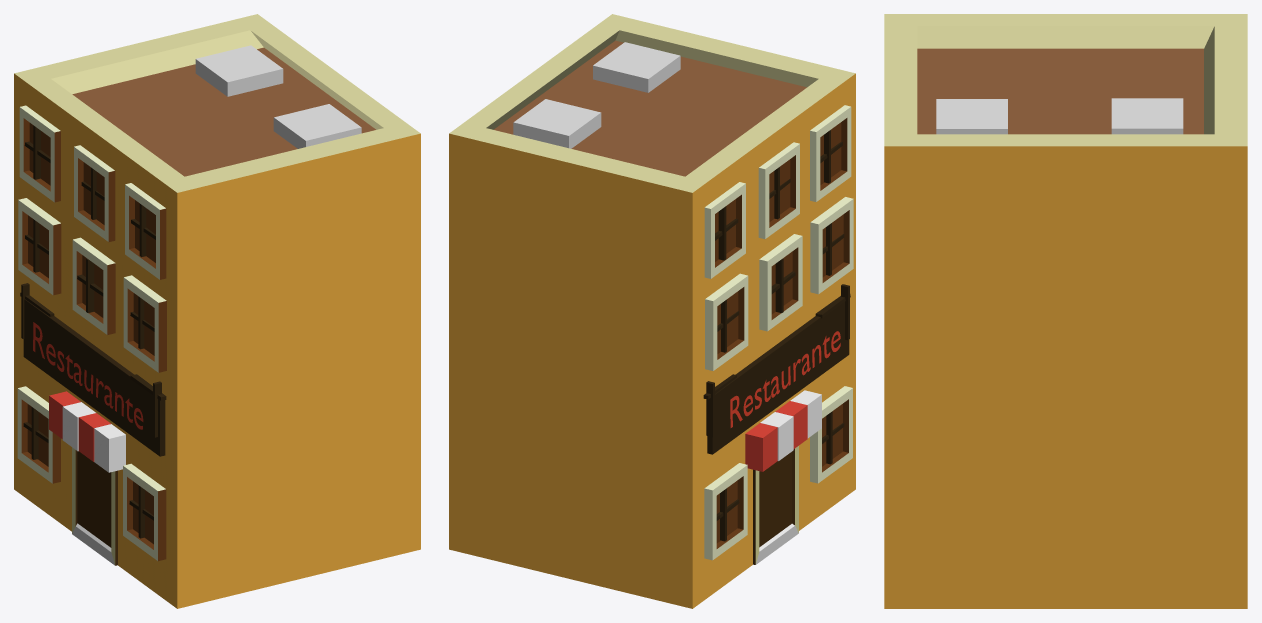
File: restoran.fbx
The picture shows the model from 3 angles, left to right: view 1: azimuth 30°, elevation 25°; view 2: azimuth 150°, elevation 25°; view 3: azimuth 270°, elevation 25°; orthographic projection. The views are drawn at different scales.
Visible parts, largest first — view 1: Cube, Cubo.031, Cubo.026, Cubo, Cubo.007, Cubo.005, Cubo.009, Cubo.006, Cubo.003, Cubo.004, Cubo.002, Cubo.008 (+6 smaller); view 2: Cube, Cubo.031, Cubo.026, Cubo.007, Cubo.005, Cubo.001, Cubo, Cubo.008, Cubo.006, Cubo.003, Cubo.004, Cubo.002 (+6 smaller); view 3: Cube, Cubo, Cubo.001.
Part boxes in pixels (<box>): Cube: <box>14,14,420,608</box>; Cubo.031: <box>23,299,165,456</box>; Cubo.026: <box>72,447,117,565</box>; Cubo: <box>195,45,283,96</box>; Cubo.007: <box>123,275,166,372</box>; Cubo.005: <box>18,198,61,295</box>; Cubo.009: <box>123,463,166,561</box>; Cubo.006: <box>72,237,115,334</box>; Cubo.003: <box>74,145,115,241</box>; Cubo.004: <box>125,183,166,279</box>; Cubo.002: <box>19,105,60,202</box>; Cubo.008: <box>17,386,60,483</box>; Cube: <box>449,14,855,608</box>; Cubo.031: <box>707,302,849,454</box>; Cubo.026: <box>753,446,798,564</box>; Cubo.007: <box>810,197,853,294</box>; Cubo.005: <box>705,273,748,370</box>; Cubo.001: <box>593,42,680,92</box>; Cubo: <box>513,99,601,148</box>; Cubo.008: <box>704,463,747,560</box>; Cubo.006: <box>759,234,802,331</box>; Cubo.003: <box>758,142,799,239</box>; Cubo.004: <box>810,105,851,201</box>; Cubo.002: <box>704,182,745,278</box>; Cube: <box>884,14,1247,608</box>; Cubo: <box>1111,98,1183,134</box>; Cubo.001: <box>936,99,1007,134</box>.
Size of the model in its own units: 943 by 1430 by 1017.
